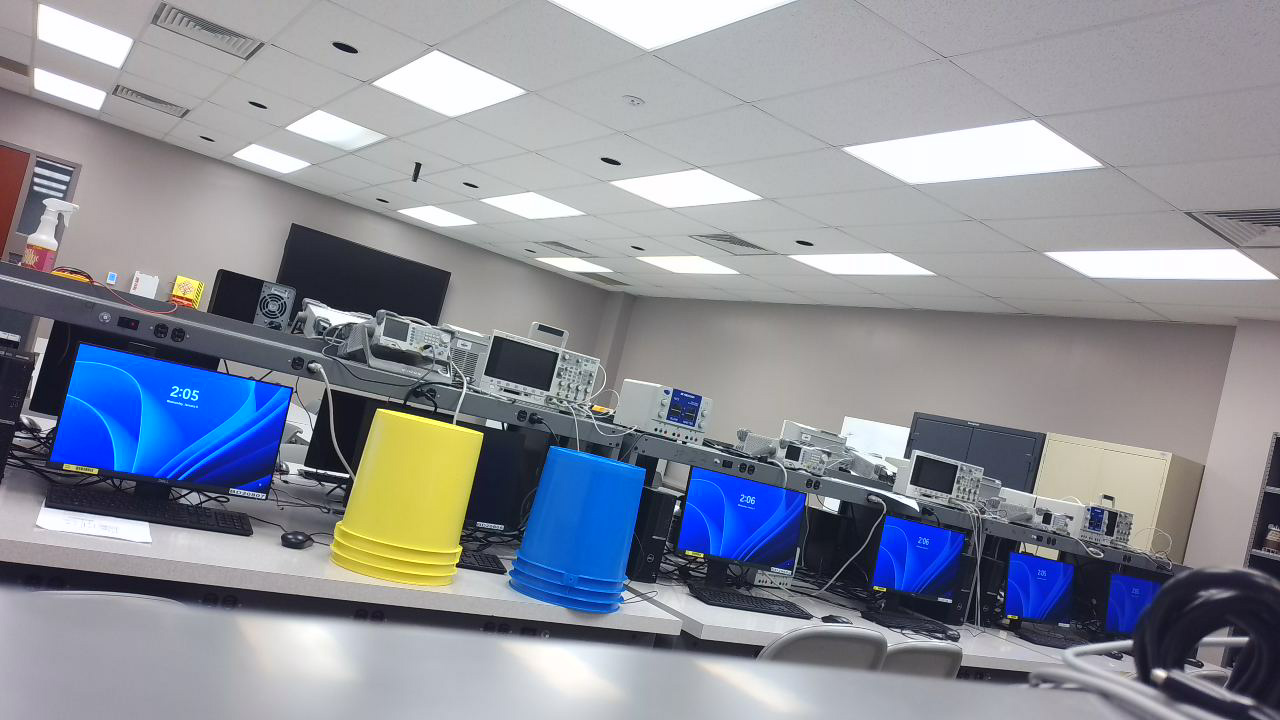blue_bucket: (510, 447, 656, 624)
yellow_bucket: (331, 408, 494, 598)
